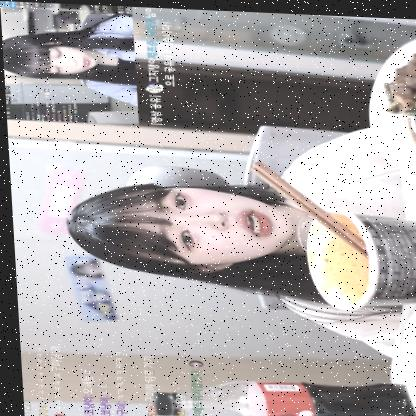donation: (0, 0, 178, 125)
streamer: (58, 111, 397, 352)
